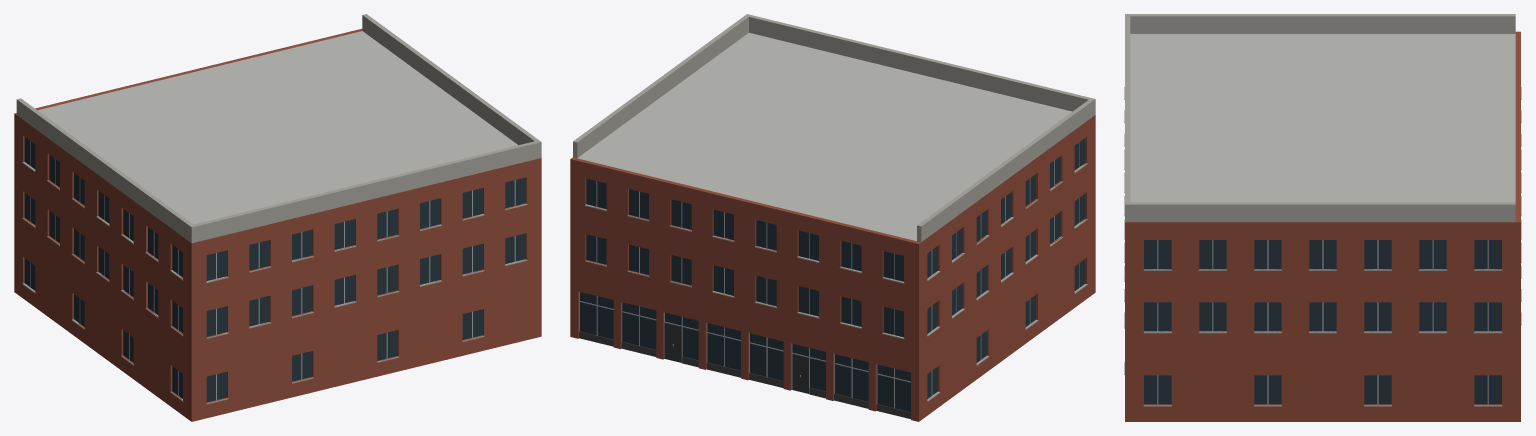
The model's file is tf_dt_brick_3s_w25.glb.
The picture shows the model from 3 angles, left to right: view 1: azimuth 30°, elevation 25°; view 2: azimuth 150°, elevation 25°; view 3: azimuth 270°, elevation 25°; orthographic projection. The views are drawn at different scales.
Parts seen in each view (by area): view 1: tf_dt_brick_3s_w25-col; view 2: tf_dt_brick_3s_w25-col; view 3: tf_dt_brick_3s_w25-col.
Part boxes in pixels (left/top/right/bottom): tf_dt_brick_3s_w25-col: left=14, top=14, right=541, bottom=421; tf_dt_brick_3s_w25-col: left=570, top=14, right=1095, bottom=421; tf_dt_brick_3s_w25-col: left=1124, top=14, right=1521, bottom=421.
Bounding box in the file's own units: 24.66 × 13.07 × 21.66.
